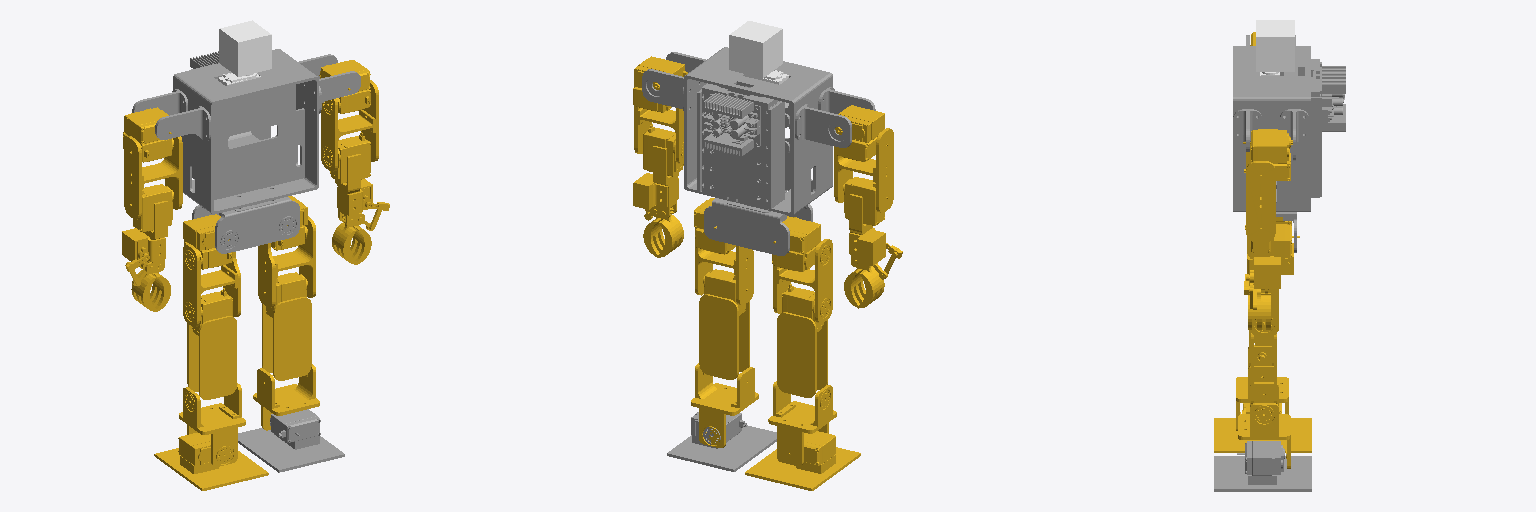
--- What the picture shows (computed from the rendered views, not written in the file) ---
The picture shows the robot from 3 angles, left to right: view 1: azimuth 30°, elevation 25°; view 2: azimuth 150°, elevation 25°; view 3: azimuth 270°, elevation 25°; orthographic projection.
Model robot_humanoid with 19 links and 18 joints (17 revolute, 1 fixed), rooted at base_link, posed every joint at zero.
Links seen in each view (by area): view 1: base_hip_middle_link, hip_knee_left_link, hip_knee_right_link, shoulder_elbow_left_link, shoulder_elbow_right_link, ankle_ankle_right_link, base_link, shoulder_shoulder_left_link, knee_knee_left_link, shoulder_shoulder_right_link, hip_hip_left_link, knee_ankle_left_link (+6 smaller); view 2: base_hip_middle_link, hip_knee_left_link, hip_knee_right_link, shoulder_elbow_right_link, shoulder_elbow_left_link, base_link, ankle_ankle_right_link, knee_knee_left_link, knee_ankle_left_link, hip_hip_left_link, shoulder_shoulder_left_link, knee_ankle_right_link (+6 smaller); view 3: base_hip_middle_link, ankle_ankle_right_link, shoulder_shoulder_right_link, shoulder_elbow_right_link, knee_ankle_right_link, hip_head_link, knee_knee_left_link, knee_ankle_left_link, hip_shoulder_right_link, hip_hip_right_link, hip_knee_right_link, base_hip_right_link.
Link boxes in pixels (bbox=[...]): base_hip_middle_link: bbox=[132, 49, 360, 214]; hip_knee_left_link: bbox=[187, 288, 236, 399]; hip_knee_right_link: bbox=[262, 272, 311, 380]; shoulder_elbow_left_link: bbox=[122, 184, 173, 311]; shoulder_elbow_right_link: bbox=[330, 132, 389, 264]; ankle_ankle_right_link: bbox=[238, 409, 344, 472]; base_link: bbox=[192, 197, 299, 253]; shoulder_shoulder_left_link: bbox=[123, 132, 182, 219]; knee_knee_left_link: bbox=[154, 433, 268, 490]; shoulder_shoulder_right_link: bbox=[321, 80, 378, 171]; hip_hip_left_link: bbox=[183, 240, 240, 326]; knee_ankle_left_link: bbox=[179, 383, 245, 466]; base_hip_middle_link: bbox=[642, 47, 875, 215]; hip_knee_left_link: bbox=[777, 284, 827, 397]; hip_knee_right_link: bbox=[699, 269, 749, 379]; shoulder_elbow_right_link: bbox=[633, 124, 683, 257]; shoulder_elbow_left_link: bbox=[844, 177, 902, 308]; base_link: bbox=[704, 198, 812, 255]; ankle_ankle_right_link: bbox=[667, 412, 776, 471]; knee_knee_left_link: bbox=[745, 431, 860, 490]; knee_ankle_left_link: bbox=[768, 381, 836, 465]; hip_hip_left_link: bbox=[772, 239, 832, 323]; shoulder_shoulder_left_link: bbox=[834, 128, 893, 212]; knee_ankle_right_link: bbox=[691, 363, 758, 447]; base_hip_middle_link: bbox=[1233, 35, 1345, 211]; ankle_ankle_right_link: bbox=[1214, 441, 1311, 491]; shoulder_shoulder_right_link: bbox=[1244, 144, 1290, 241]; shoulder_elbow_right_link: bbox=[1244, 228, 1280, 329]; knee_ankle_right_link: bbox=[1238, 382, 1290, 468]; hip_head_link: bbox=[1256, 20, 1294, 75]; knee_knee_left_link: bbox=[1214, 403, 1311, 452]; knee_ankle_left_link: bbox=[1236, 345, 1288, 430]; hip_shoulder_right_link: bbox=[1243, 129, 1292, 163]; hip_hip_right_link: bbox=[1250, 243, 1293, 336]; hip_knee_right_link: bbox=[1251, 322, 1276, 403]; base_hip_right_link: bbox=[1274, 224, 1299, 258].
Bounding box of the posed robot: 0.3145 × 0.1354 × 0.4841 m (x, y, z).
19 mesh visuals loaded from 19 distinct referenced files (19 binary STL).

robot.urdf — robot_humanoid:
<?xml version="1.0" encoding="utf-8"?>
<!-- This URDF was automatically created by SolidWorks to URDF Exporter! Originally created by Stephen Brawner ([email redacted]) 
     Commit Version: 1.6.0-4-g7f85cfe  Build Version: 1.6.7995.38578
     For more information, please see http://wiki.ros.org/sw_urdf_exporter -->
<robot
  name="robot_humanoid">
  <link
    name="base_link">
    <inertial>
      <origin
        xyz="-4.96073883701726E-08 0.000462672288009204 -0.013211586070026"
        rpy="0 0 0" />
      <mass
        value="0.0505669356625173" />
      <inertia
        ixx="1.58512882562337E-05"
        ixy="-6.32129709297624E-12"
        ixz="3.06079220712421E-11"
        iyy="3.95314057556553E-05"
        iyz="-3.07371418289219E-06"
        izz="3.98877370276516E-05" />
    </inertial>
    <visual>
      <origin
        xyz="0 0 0"
        rpy="0 0 0" />
      <geometry>
        <mesh
          filename="package://robot_humanoid/meshes/base_link.STL" />
      </geometry>
      <material
        name="">
        <color
          rgba="0.698039215686274 0.698039215686274 0.698039215686274 1" />
      </material>
    </visual>
    <collision>
      <origin
        xyz="0 0 0"
        rpy="0 0 0" />
      <geometry>
        <mesh
          filename="package://robot_humanoid/meshes/base_link.STL" />
      </geometry>
    </collision>
  </link>
  <link
    name="base_hip_left_link">
    <inertial>
      <origin
        xyz="0.00998733125339227 -9.54015974830025E-08 0.0218258506936428"
        rpy="0 0 0" />
      <mass
        value="0.054051364576062" />
      <inertia
        ixx="8.31443086285313E-06"
        ixy="-1.04977224196515E-10"
        ixz="-9.67413631360723E-09"
        iyy="1.38876292348193E-05"
        iyz="-5.07154008439283E-11"
        izz="9.16994849231721E-06" />
    </inertial>
    <visual>
      <origin
        xyz="0 0 0"
        rpy="0 0 0" />
      <geometry>
        <mesh
          filename="package://robot_humanoid/meshes/base_hip_left_link.STL" />
      </geometry>
      <material
        name="">
        <color
          rgba="0.949019607843137 0.76078431372549 0.180392156862745 1" />
      </material>
    </visual>
    <collision>
      <origin
        xyz="0 0 0"
        rpy="0 0 0" />
      <geometry>
        <mesh
          filename="package://robot_humanoid/meshes/base_hip_left_link.STL" />
      </geometry>
    </collision>
  </link>
  <joint
    name="base_hip_left_joint"
    type="revolute">
    <origin
      xyz="-0.035 -0.0205 -0.027"
      rpy="1.5708 0 -3.1416" />
    <parent
      link="base_link" />
    <child
      link="base_hip_left_link" />
    <axis
      xyz="0 0 1" />
    <limit
      lower="-0.17453"
      upper="0.69813"
      effort="1.08"
      velocity="6.16" />
  </joint>
  <link
    name="hip_hip_left_link">
    <inertial>
      <origin
        xyz="-0.00704458564509271 -0.00972823155065444 -0.0176386810408362"
        rpy="0 0 0" />
      <mass
        value="0.0782857304964655" />
      <inertia
        ixx="2.15867392602823E-05"
        ixy="3.64452827439174E-07"
        ixz="-9.67409417191068E-09"
        iyy="1.91652280044429E-05"
        iyz="-2.10257376528169E-10"
        izz="2.0531955653516E-05" />
    </inertial>
    <visual>
      <origin
        xyz="0 0 0"
        rpy="0 0 0" />
      <geometry>
        <mesh
          filename="package://robot_humanoid/meshes/hip_hip_left_link.STL" />
      </geometry>
      <material
        name="">
        <color
          rgba="0.949019607843137 0.76078431372549 0.180392156862745 1" />
      </material>
    </visual>
    <collision>
      <origin
        xyz="0 0 0"
        rpy="0 0 0" />
      <geometry>
        <mesh
          filename="package://robot_humanoid/meshes/hip_hip_left_link.STL" />
      </geometry>
    </collision>
  </link>
  <joint
    name="hip_hip_left_joint"
    type="revolute">
    <origin
      xyz="0.0295 -0.0205 0.0105"
      rpy="0 1.5708 0" />
    <parent
      link="base_hip_left_link" />
    <child
      link="hip_hip_left_link" />
    <axis
      xyz="0 0 -1" />
    <limit
      lower="-0.5236"
      upper="0.69813"
      effort="1.08"
      velocity="6.16" />
  </joint>
  <link
    name="hip_knee_left_link">
    <inertial>
      <origin
        xyz="6.75284817647226E-08 -0.0230508584855294 -0.0182598647713189"
        rpy="0 0 0" />
      <mass
        value="0.0763616529215024" />
      <inertia
        ixx="3.20341469292307E-05"
        ixy="-1.04977224229005E-10"
        ixz="-5.07154008700094E-11"
        iyy="1.19774258417233E-05"
        iyz="-9.67413631360178E-09"
        izz="2.36869366403767E-05" />
    </inertial>
    <visual>
      <origin
        xyz="0 0 0"
        rpy="0 0 0" />
      <geometry>
        <mesh
          filename="package://robot_humanoid/meshes/hip_knee_left_link.STL" />
      </geometry>
      <material
        name="">
        <color
          rgba="0.949019607843137 0.76078431372549 0.180392156862745 1" />
      </material>
    </visual>
    <collision>
      <origin
        xyz="0 0 0"
        rpy="0 0 0" />
      <geometry>
        <mesh
          filename="package://robot_humanoid/meshes/hip_knee_left_link.STL" />
      </geometry>
    </collision>
  </link>
  <joint
    name="hip_knee_left_joint"
    type="revolute">
    <origin
      xyz="0 -0.06 0"
      rpy="0 0 0" />
    <parent
      link="hip_hip_left_link" />
    <child
      link="hip_knee_left_link" />
    <axis
      xyz="0 0 -1" />
    <limit
      lower="-1.3963"
      upper="1.3963"
      effort="1.08"
      velocity="6.16" />
  </joint>
  <link
    name="knee_ankle_left_link">
    <inertial>
      <origin
        xyz="3.93736869536351E-05 -0.0275155508768188 -0.0176910938148466"
        rpy="0 0 0" />
      <mass
        value="0.0298519989099933" />
      <inertia
        ixx="9.56697138711308E-06"
        ixy="1.6471871683677E-06"
        ixz="4.48957279114109E-07"
        iyy="1.00406929638069E-05"
        iyz="-1.44787293328076E-06"
        izz="9.63973144953532E-06" />
    </inertial>
    <visual>
      <origin
        xyz="0 0 0"
        rpy="0 0 0" />
      <geometry>
        <mesh
          filename="package://robot_humanoid/meshes/knee_ankle_left_link.STL" />
      </geometry>
      <material
        name="">
        <color
          rgba="0.949019607843137 0.76078431372549 0.180392156862745 1" />
      </material>
    </visual>
    <collision>
      <origin
        xyz="0 0 0"
        rpy="0 0 0" />
      <geometry>
        <mesh
          filename="package://robot_humanoid/meshes/knee_ankle_left_link.STL" />
      </geometry>
    </collision>
  </link>
  <joint
    name="knee_ankle_left_joint"
    type="revolute">
    <origin
      xyz="0 -0.1034 0"
      rpy="0 0 0" />
    <parent
      link="hip_knee_left_link" />
    <child
      link="knee_ankle_left_link" />
    <axis
      xyz="0 0 -1" />
    <limit
      lower="-0.34907"
      upper="0.69813"
      effort="1.08"
      velocity="6.16" />
  </joint>
  <link
    name="knee_knee_left_link">
    <inertial>
      <origin
        xyz="-0.00809509712887917 -0.00727461919221756 -0.0218892657222814"
        rpy="0 0 0" />
      <mass
        value="0.0850053645760622" />
      <inertia
        ixx="2.80542144992169E-05"
        ixy="5.98719522678762E-07"
        ixz="-9.67413631360595E-09"
        iyy="4.73017474166376E-05"
        iyz="5.07154009089232E-11"
        izz="2.35375503104991E-05" />
    </inertial>
    <visual>
      <origin
        xyz="0 0 0"
        rpy="0 0 0" />
      <geometry>
        <mesh
          filename="package://robot_humanoid/meshes/knee_knee_left_link.STL" />
      </geometry>
      <material
        name="">
        <color
          rgba="0.949019607843137 0.76078431372549 0.180392156862745 1" />
      </material>
    </visual>
    <collision>
      <origin
        xyz="0 0 0"
        rpy="0 0 0" />
      <geometry>
        <mesh
          filename="package://robot_humanoid/meshes/knee_knee_left_link.STL" />
      </geometry>
    </collision>
  </link>
  <joint
    name="knee_knee_left_link"
    type="revolute">
    <origin
      xyz="0.0215 -0.057 -0.018"
      rpy="0 1.5708 0" />
    <parent
      link="knee_ankle_left_link" />
    <child
      link="knee_knee_left_link" />
    <axis
      xyz="0 0 -1" />
    <limit
      lower="-1.2217"
      upper="1.2217"
      effort="1.08"
      velocity="6.16" />
  </joint>
  <link
    name="base_hip_right_link">
    <inertial>
      <origin
        xyz="0.00998733125338788 9.54015963727795E-08 -0.0218258506936435"
        rpy="0 0 0" />
      <mass
        value="0.054051364576062" />
      <inertia
        ixx="8.31443086285313E-06"
        ixy="1.04977224222966E-10"
        ixz="9.67413631360588E-09"
        iyy="1.38876292348193E-05"
        iyz="-5.07154008427724E-11"
        izz="9.16994849231722E-06" />
    </inertial>
    <visual>
      <origin
        xyz="0 0 0"
        rpy="0 0 0" />
      <geometry>
        <mesh
          filename="package://robot_humanoid/meshes/base_hip_right_link.STL" />
      </geometry>
      <material
        name="">
        <color
          rgba="0.949019607843137 0.76078431372549 0.180392156862745 1" />
      </material>
    </visual>
    <collision>
      <origin
        xyz="0 0 0"
        rpy="0 0 0" />
      <geometry>
        <mesh
          filename="package://robot_humanoid/meshes/base_hip_right_link.STL" />
      </geometry>
    </collision>
  </link>
  <joint
    name="base_hip_right_joint"
    type="revolute">
    <origin
      xyz="0.035 -0.0205 -0.027"
      rpy="1.5708 0 0" />
    <parent
      link="base_link" />
    <child
      link="base_hip_right_link" />
    <axis
      xyz="0 0 -1" />
    <limit
      lower="-0.69813"
      upper="0.17453"
      effort="1.08"
      velocity="6.16" />
  </joint>
  <link
    name="hip_hip_right_link">
    <inertial>
      <origin
        xyz="0.00704458564509369 -0.00972910004934363 -0.0211386810445282"
        rpy="0 0 0" />
      <mass
        value="0.0782857304964656" />
      <inertia
        ixx="2.15867392602823E-05"
        ixy="-3.64242533763941E-07"
        ixz="9.67409608113456E-09"
        iyy="1.91652280044429E-05"
        iyz="2.1025737652695E-10"
        izz="2.0531955653516E-05" />
    </inertial>
    <visual>
      <origin
        xyz="0 0 0"
        rpy="0 0 0" />
      <geometry>
        <mesh
          filename="package://robot_humanoid/meshes/hip_hip_right_link.STL" />
      </geometry>
      <material
        name="">
        <color
          rgba="0.949019607843137 0.76078431372549 0.180392156862745 1" />
      </material>
    </visual>
    <collision>
      <origin
        xyz="0 0 0"
        rpy="0 0 0" />
      <geometry>
        <mesh
          filename="package://robot_humanoid/meshes/hip_hip_right_link.STL" />
      </geometry>
    </collision>
  </link>
  <joint
    name="hip_hip_right_joint"
    type="revolute">
    <origin
      xyz="0.0309 -0.0205 -0.0126"
      rpy="0 1.5708 0" />
    <parent
      link="base_hip_right_link" />
    <child
      link="hip_hip_right_link" />
    <axis
      xyz="0 0 -1" />
    <limit
      lower="-0.69813"
      upper="0.5236"
      effort="1.08"
      velocity="6.16" />
  </joint>
  <link
    name="hip_knee_right_link">
    <inertial>
      <origin
        xyz="6.75284845125246E-08 -0.0230508584855279 -0.0217598647713223"
        rpy="0 0 0" />
      <mass
        value="0.0763616529215023" />
      <inertia
        ixx="3.20341469292307E-05"
        ixy="-1.04977224221074E-10"
        ixz="-5.07154008699299E-11"
        iyy="1.19774258417233E-05"
        iyz="-9.67413631360366E-09"
        izz="2.36869366403767E-05" />
    </inertial>
    <visual>
      <origin
        xyz="0 0 0"
        rpy="0 0 0" />
      <geometry>
        <mesh
          filename="package://robot_humanoid/meshes/hip_knee_right_link.STL" />
      </geometry>
      <material
        name="">
        <color
          rgba="0.949019607843137 0.76078431372549 0.180392156862745 1" />
      </material>
    </visual>
    <collision>
      <origin
        xyz="0 0 0"
        rpy="0 0 0" />
      <geometry>
        <mesh
          filename="package://robot_humanoid/meshes/hip_knee_right_link.STL" />
      </geometry>
    </collision>
  </link>
  <joint
    name="hip_knee_right_joint"
    type="revolute">
    <origin
      xyz="0 -0.06 0"
      rpy="0 0 0" />
    <parent
      link="hip_hip_right_link" />
    <child
      link="hip_knee_right_link" />
    <axis
      xyz="0 0 -1" />
    <limit
      lower="-1.3963"
      upper="1.3963"
      effort="1.08"
      velocity="6.16" />
  </joint>
  <link
    name="knee_ankle_right_link">
    <inertial>
      <origin
        xyz="0.00490863965633364 -0.0237575654867674 -0.0211297105982802"
        rpy="0 0 0" />
      <mass
        value="0.0249034054429907" />
      <inertia
        ixx="8.46429900344947E-06"
        ixy="1.69069288249236E-06"
        ixz="4.48957279114109E-07"
        iyy="9.65421843184852E-06"
        iyz="-1.44787293328077E-06"
        izz="8.88292409234079E-06" />
    </inertial>
    <visual>
      <origin
        xyz="0 0 0"
        rpy="0 0 0" />
      <geometry>
        <mesh
          filename="package://robot_humanoid/meshes/knee_ankle_right_link.STL" />
      </geometry>
      <material
        name="">
        <color
          rgba="0.949019607843137 0.76078431372549 0.180392156862745 1" />
      </material>
    </visual>
    <collision>
      <origin
        xyz="0 0 0"
        rpy="0 0 0" />
      <geometry>
        <mesh
          filename="package://robot_humanoid/meshes/knee_ankle_right_link.STL" />
      </geometry>
    </collision>
  </link>
  <joint
    name="knee_ankle_right_joint"
    type="revolute">
    <origin
      xyz="0 -0.1034 0"
      rpy="0 0 0" />
    <parent
      link="hip_knee_right_link" />
    <child
      link="knee_ankle_right_link" />
    <axis
      xyz="0 0 -1" />
    <limit
      lower="-0.69813"
      upper="0.34907"
      effort="1.08"
      velocity="6.16" />
  </joint>
  <link
    name="ankle_ankle_right_link">
    <inertial>
      <origin
        xyz="-0.0080088230549106 -0.00719708942027542 -0.0220325514980313"
        rpy="0 0 0" />
      <mass
        value="0.0859210745449871" />
      <inertia
        ixx="2.80785040143856E-05"
        ixy="5.98719522678799E-07"
        ixz="-9.67413631360224E-09"
        iyy="4.73260369318063E-05"
        iyz="5.07154009133513E-11"
        izz="2.35857406698626E-05" />
    </inertial>
    <visual>
      <origin
        xyz="0 0 0"
        rpy="0 0 0" />
      <geometry>
        <mesh
          filename="package://robot_humanoid/meshes/ankle_ankle_right_link.STL" />
      </geometry>
      <material
        name="">
        <color
          rgba="0.698039215686274 0.698039215686274 0.698039215686274 1" />
      </material>
    </visual>
    <collision>
      <origin
        xyz="0 0 0"
        rpy="0 0 0" />
      <geometry>
        <mesh
          filename="package://robot_humanoid/meshes/ankle_ankle_right_link.STL" />
      </geometry>
    </collision>
  </link>
  <joint
    name="ankle_ankle_right_joint"
    type="revolute">
    <origin
      xyz="0.0215 -0.057 -0.0215"
      rpy="0 1.5708 0" />
    <parent
      link="knee_ankle_right_link" />
    <child
      link="ankle_ankle_right_link" />
    <axis
      xyz="0 0 -1" />
    <limit
      lower="-1.2217"
      upper="1.2217"
      effort="1.08"
      velocity="6.16" />
  </joint>
  <link
    name="base_hip_middle_link">
    <inertial>
      <origin
        xyz="-0.000142721276460908 0.0147894005996427 0.0799735363940215"
        rpy="0 0 0" />
      <mass
        value="0.322024415361419" />
      <inertia
        ixx="0.000482647232629694"
        ixy="-2.14638462617507E-07"
        ixz="-2.40807211313153E-08"
        iyy="0.000836282388701369"
        iyz="4.64558426111006E-07"
        izz="0.000520018730323675" />
    </inertial>
    <visual>
      <origin
        xyz="0 0 0"
        rpy="0 0 0" />
      <geometry>
        <mesh
          filename="package://robot_humanoid/meshes/base_hip_middle_link.STL" />
      </geometry>
      <material
        name="">
        <color
          rgba="0.698039215686274 0.698039215686274 0.698039215686274 1" />
      </material>
    </visual>
    <collision>
      <origin
        xyz="0 0 0"
        rpy="0 0 0" />
      <geometry>
        <mesh
          filename="package://robot_humanoid/meshes/base_hip_middle_link.STL" />
      </geometry>
    </collision>
  </link>
  <joint
    name="base_hip_middle_joint"
    type="revolute">
    <origin
      xyz="0 0 0.0048"
      rpy="0 0 0" />
    <parent
      link="base_link" />
    <child
      link="base_hip_middle_link" />
    <axis
      xyz="0 0 1" />
    <limit
      lower="-0.5236"
      upper="0.5236"
      effort="1.08"
      velocity="6.16" />
  </joint>
  <link
    name="hip_shoulder_left_link">
    <inertial>
      <origin
        xyz="-0.00998733125339235 9.54015962756349E-08 0.0218258506936438"
        rpy="0 0 0" />
      <mass
        value="0.054051364576062" />
      <inertia
        ixx="8.31443086285313E-06"
        ixy="-1.04977224240289E-10"
        ixz="9.67413631360983E-09"
        iyy="1.38876292348193E-05"
        iyz="5.07154008409911E-11"
        izz="9.1699484923172E-06" />
    </inertial>
    <visual>
      <origin
        xyz="0 0 0"
        rpy="0 0 0" />
      <geometry>
        <mesh
          filename="package://robot_humanoid/meshes/hip_shoulder_left_link.STL" />
      </geometry>
      <material
        name="">
        <color
          rgba="0.949019607843137 0.76078431372549 0.180392156862745 1" />
      </material>
    </visual>
    <collision>
      <origin
        xyz="0 0 0"
        rpy="0 0 0" />
      <geometry>
        <mesh
          filename="package://robot_humanoid/meshes/hip_shoulder_left_link.STL" />
      </geometry>
    </collision>
  </link>
  <joint
    name="hip_shoulder_left_joint"
    type="revolute">
    <origin
      xyz="-0.108 0.0195 0.1093"
      rpy="1.5708 0 0" />
    <parent
      link="base_hip_middle_link" />
    <child
      link="hip_shoulder_left_link" />
    <axis
      xyz="0 0 1" />
    <limit
      lower="-1.2217"
      upper="0.17453"
      effort="1.08"
      velocity="6.16" />
  </joint>
  <link
    name="shoulder_shoulder_left_link">
    <inertial>
      <origin
        xyz="0.00679109464747229 -0.0132231154303537 0.00466452110588327"
        rpy="0 0 0" />
      <mass
        value="0.0794907034391992" />
      <inertia
        ixx="2.28341377776542E-05"
        ixy="1.05146837614679E-10"
        ixz="9.67409512653658E-09"
        iyy="1.93090904264949E-05"
        iyz="2.10254567353609E-10"
        izz="2.19200033271726E-05" />
    </inertial>
    <visual>
      <origin
        xyz="0 0 0"
        rpy="0 0 0" />
      <geometry>
        <mesh
          filename="package://robot_humanoid/meshes/shoulder_shoulder_left_link.STL" />
      </geometry>
      <material
        name="">
        <color
          rgba="0.949019607843137 0.76078431372549 0.180392156862745 1" />
      </material>
    </visual>
    <collision>
      <origin
        xyz="0 0 0"
        rpy="0 0 0" />
      <geometry>
        <mesh
          filename="package://robot_humanoid/meshes/shoulder_shoulder_left_link.STL" />
      </geometry>
    </collision>
  </link>
  <joint
    name="shoulder_shoulder_left_joint"
    type="revolute">
    <origin
      xyz="-0.015672 -0.016878 0.0309"
      rpy="0 1.5708 0" />
    <parent
      link="hip_shoulder_left_link" />
    <child
      link="shoulder_shoulder_left_link" />
    <axis
      xyz="0 0 -1" />
    <limit
      lower="-1.0472"
      upper="1.0472"
      effort="1.08"
      velocity="6.16" />
  </joint>
  <link
    name="shoulder_elbow_left_link">
    <inertial>
      <origin
        xyz="0.00130799469024606 -0.0344368131565964 -0.0231140719165473"
        rpy="0 0 0" />
      <mass
        value="0.0947347359064562" />
      <inertia
        ixx="2.36140162717298E-05"
        ixy="-1.44475899553086E-07"
        ixz="2.6895536056301E-07"
        iyy="1.17474498281617E-05"
        iyz="-8.46740520039035E-08"
        izz="1.96195360339757E-05" />
    </inertial>
    <visual>
      <origin
        xyz="0 0 0"
        rpy="0 0 0" />
      <geometry>
        <mesh
          filename="package://robot_humanoid/meshes/shoulder_elbow_left_link.STL" />
      </geometry>
      <material
        name="">
        <color
          rgba="0.949019607843137 0.76078431372549 0.180392156862745 1" />
      </material>
    </visual>
    <collision>
      <origin
        xyz="0 0 0"
        rpy="0 0 0" />
      <geometry>
        <mesh
          filename="package://robot_humanoid/meshes/shoulder_elbow_left_link.STL" />
      </geometry>
    </collision>
  </link>
  <joint
    name="shoulder_elbow_left_joint"
    type="revolute">
    <origin
      xyz="0 -0.063622 0.026172"
      rpy="0 0 0" />
    <parent
      link="shoulder_shoulder_left_link" />
    <child
      link="shoulder_elbow_left_link" />
    <axis
      xyz="0 0 -1" />
    <limit
      lower="-1.3963"
      upper="1.3963"
      effort="1.08"
      velocity="6.16" />
  </joint>
  <link
    name="hip_shoulder_right_link">
    <inertial>
      <origin
        xyz="-0.00998733125339191 -9.54015958454235E-08 -0.0183258506936388"
        rpy="0 0 0" />
      <mass
        value="0.054051364576062" />
      <inertia
        ixx="8.31443086285314E-06"
        ixy="1.0497722422181E-10"
        ixz="-9.67413631360759E-09"
        iyy="1.38876292348193E-05"
        iyz="5.0715400839143E-11"
        izz="9.16994849231721E-06" />
    </inertial>
    <visual>
      <origin
        xyz="0 0 0"
        rpy="0 0 0" />
      <geometry>
        <mesh
          filename="package://robot_humanoid/meshes/hip_shoulder_right_link.STL" />
      </geometry>
      <material
        name="">
        <color
          rgba="0.949019607843137 0.76078431372549 0.180392156862745 1" />
      </material>
    </visual>
    <collision>
      <origin
        xyz="0 0 0"
        rpy="0 0 0" />
      <geometry>
        <mesh
          filename="package://robot_humanoid/meshes/hip_shoulder_right_link.STL" />
      </geometry>
    </collision>
  </link>
  <joint
    name="hip_shoulder_right_joint"
    type="revolute">
    <origin
      xyz="0.108 0.016 0.1093"
      rpy="1.5708 0 3.1416" />
    <parent
      link="base_hip_middle_link" />
    <child
      link="hip_shoulder_right_link" />
    <axis
      xyz="0 0 -1" />
    <limit
      lower="-0.17453"
      upper="1.2217"
      effort="1.08"
      velocity="6.16" />
  </joint>
  <link
    name="shoulder_shoulder_right_link">
    <inertial>
      <origin
        xyz="-0.00679109444793513 -0.0132232451709656 0.00466452110588336"
        rpy="0 0 0" />
      <mass
        value="0.0794907034391992" />
      <inertia
        ixx="2.28341377776542E-05"
        ixy="1.05146837620152E-10"
        ixz="-9.67417750069478E-09"
        iyy="1.93090904264949E-05"
        iyz="3.11685369058253E-10"
        izz="2.19200033271726E-05" />
    </inertial>
    <visual>
      <origin
        xyz="0 0 0"
        rpy="0 0 0" />
      <geometry>
        <mesh
          filename="package://robot_humanoid/meshes/shoulder_shoulder_right_link.STL" />
      </geometry>
      <material
        name="">
        <color
          rgba="0.949019607843137 0.76078431372549 0.180392156862745 1" />
      </material>
    </visual>
    <collision>
      <origin
        xyz="0 0 0"
        rpy="0 0 0" />
      <geometry>
        <mesh
          filename="package://robot_humanoid/meshes/shoulder_shoulder_right_link.STL" />
      </geometry>
    </collision>
  </link>
  <joint
    name="shoulder_shoulder_right_joint"
    type="revolute">
    <origin
      xyz="-0.015672 -0.016878 -0.0274"
      rpy="0 1.5708 0" />
    <parent
      link="hip_shoulder_right_link" />
    <child
      link="shoulder_shoulder_right_link" />
    <axis
      xyz="0 0 -1" />
    <limit
      lower="-1.0472"
      upper="1.0472"
      effort="1.08"
      velocity="6.16" />
  </joint>
  <link
    name="shoulder_elbow_right_link">
    <inertial>
      <origin
        xyz="0.000131419556628147 -0.0344446069154236 -0.0231113828735998"
        rpy="0 0 0" />
      <mass
        value="0.09468264272445" />
      <inertia
        ixx="2.35861608714818E-05"
        ixy="-9.92514002612598E-08"
        ixz="-2.42193921210969E-07"
        iyy="1.17472872530316E-05"
        iyz="-8.52697973712648E-08"
        izz="1.95912151512851E-05" />
    </inertial>
    <visual>
      <origin
        xyz="0 0 0"
        rpy="0 0 0" />
      <geometry>
        <mesh
          filename="package://robot_humanoid/meshes/shoulder_elbow_right_link.STL" />
      </geometry>
      <material
        name="">
        <color
          rgba="0.949019607843137 0.76078431372549 0.180392156862745 1" />
      </material>
    </visual>
    <collision>
      <origin
        xyz="0 0 0"
        rpy="0 0 0" />
      <geometry>
        <mesh
          filename="package://robot_humanoid/meshes/shoulder_elbow_right_link.STL" />
      </geometry>
    </collision>
  </link>
  <joint
    name="shoulder_elbow_right_joint"
    type="revolute">
    <origin
      xyz="0 -0.063622 0.026172"
      rpy="0 0 0" />
    <parent
      link="shoulder_shoulder_right_link" />
    <child
      link="shoulder_elbow_right_link" />
    <axis
      xyz="0 0 -1" />
    <limit
      lower="-1.3963"
      upper="1.3963"
      effort="1.08"
      velocity="6.16" />
  </joint>
  <link
    name="hip_head_link">
    <inertial>
      <origin
        xyz="-0.004720965516897 0.00262494414590749 0.00202353709790658"
        rpy="0 0 0" />
      <mass
        value="0.114347135302489" />
      <inertia
        ixx="2.40002189328776E-05"
        ixy="1.04977224222184E-10"
        ixz="-9.67413631361166E-09"
        iyy="2.95952418691319E-05"
        iyz="8.14892265253195E-08"
        izz="2.51608824852151E-05" />
    </inertial>
    <visual>
      <origin
        xyz="0 0 0"
        rpy="0 0 0" />
      <geometry>
        <mesh
          filename="package://robot_humanoid/meshes/hip_head_link.STL" />
      </geometry>
      <material
        name="">
        <color
          rgba="1 1 1 1" />
      </material>
    </visual>
    <collision>
      <origin
        xyz="0 0 0"
        rpy="0 0 0" />
      <geometry>
        <mesh
          filename="package://robot_humanoid/meshes/hip_head_link.STL" />
      </geometry>
    </collision>
  </link>
  <joint
    name="hip_head_joint"
    type="fixed">
    <origin
      xyz="0.0010281 -0.00175 0.14462"
      rpy="0 0 0" />
    <parent
      link="base_hip_middle_link" />
    <child
      link="hip_head_link" />
    <axis
      xyz="0 0 0" />
  </joint>
</robot>
